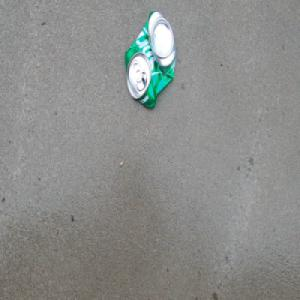SodaCan: (123, 11, 177, 112)
